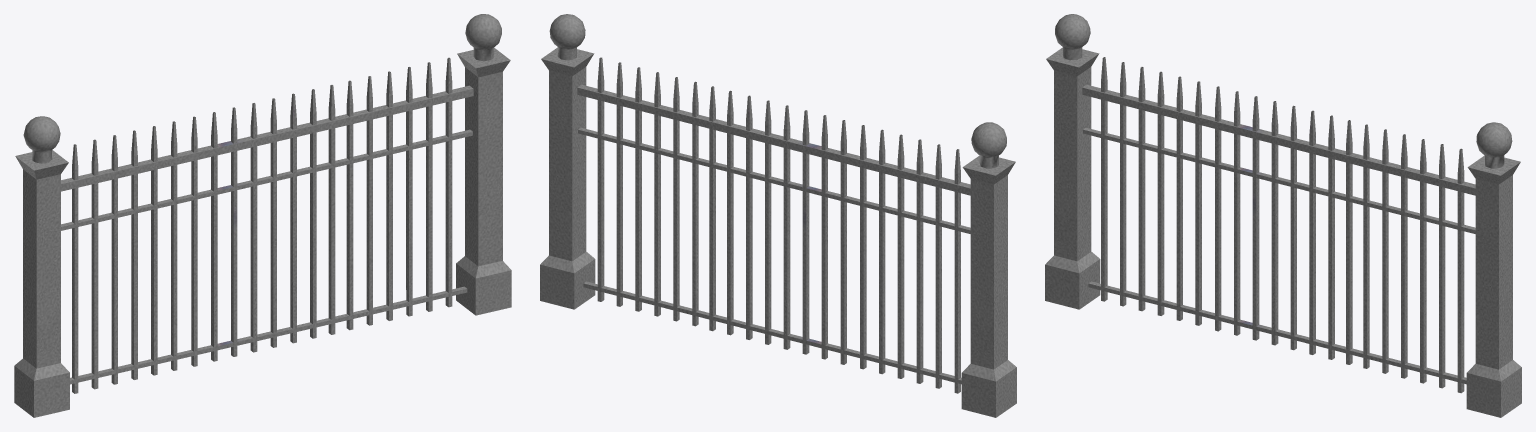
File: 5d9a54d7-2413-4d86-83dc-acf6914f86fc.glb
3 renders of one model, left to right at view 1: azimuth 30°, elevation 25°; view 2: azimuth 150°, elevation 25°; view 3: azimuth 330°, elevation 25°, orthographic. The views are drawn at different scales.
Parts seen in each view (by area): view 1: AshRailing; view 2: AshRailing; view 3: AshRailing.
Part boxes in pixels (x1,y1,x2,y2): AshRailing: [14, 14, 511, 417]; AshRailing: [540, 14, 1016, 417]; AshRailing: [1045, 14, 1521, 417].
Size of what is drawn, in the model's own units: 2.07 by 1.21 by 0.202.
1 material, 1 textured.
